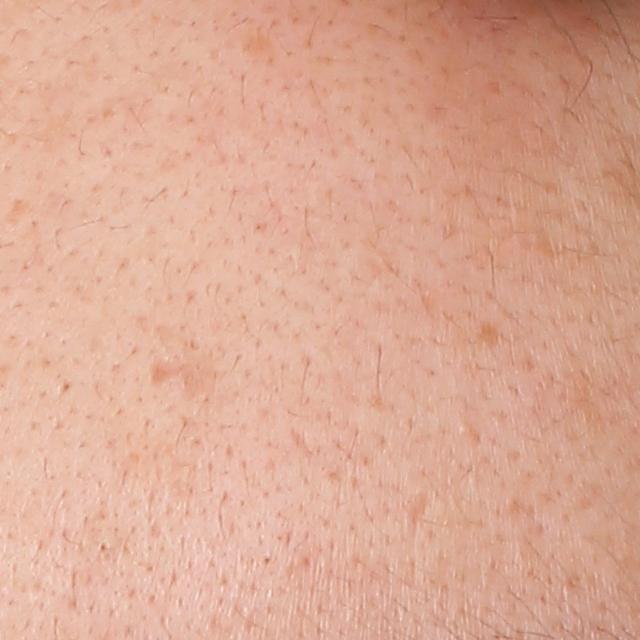atrophic_scar: (144, 321, 221, 403), (404, 490, 438, 539)
comedo: (95, 535, 114, 555), (455, 418, 473, 437)
